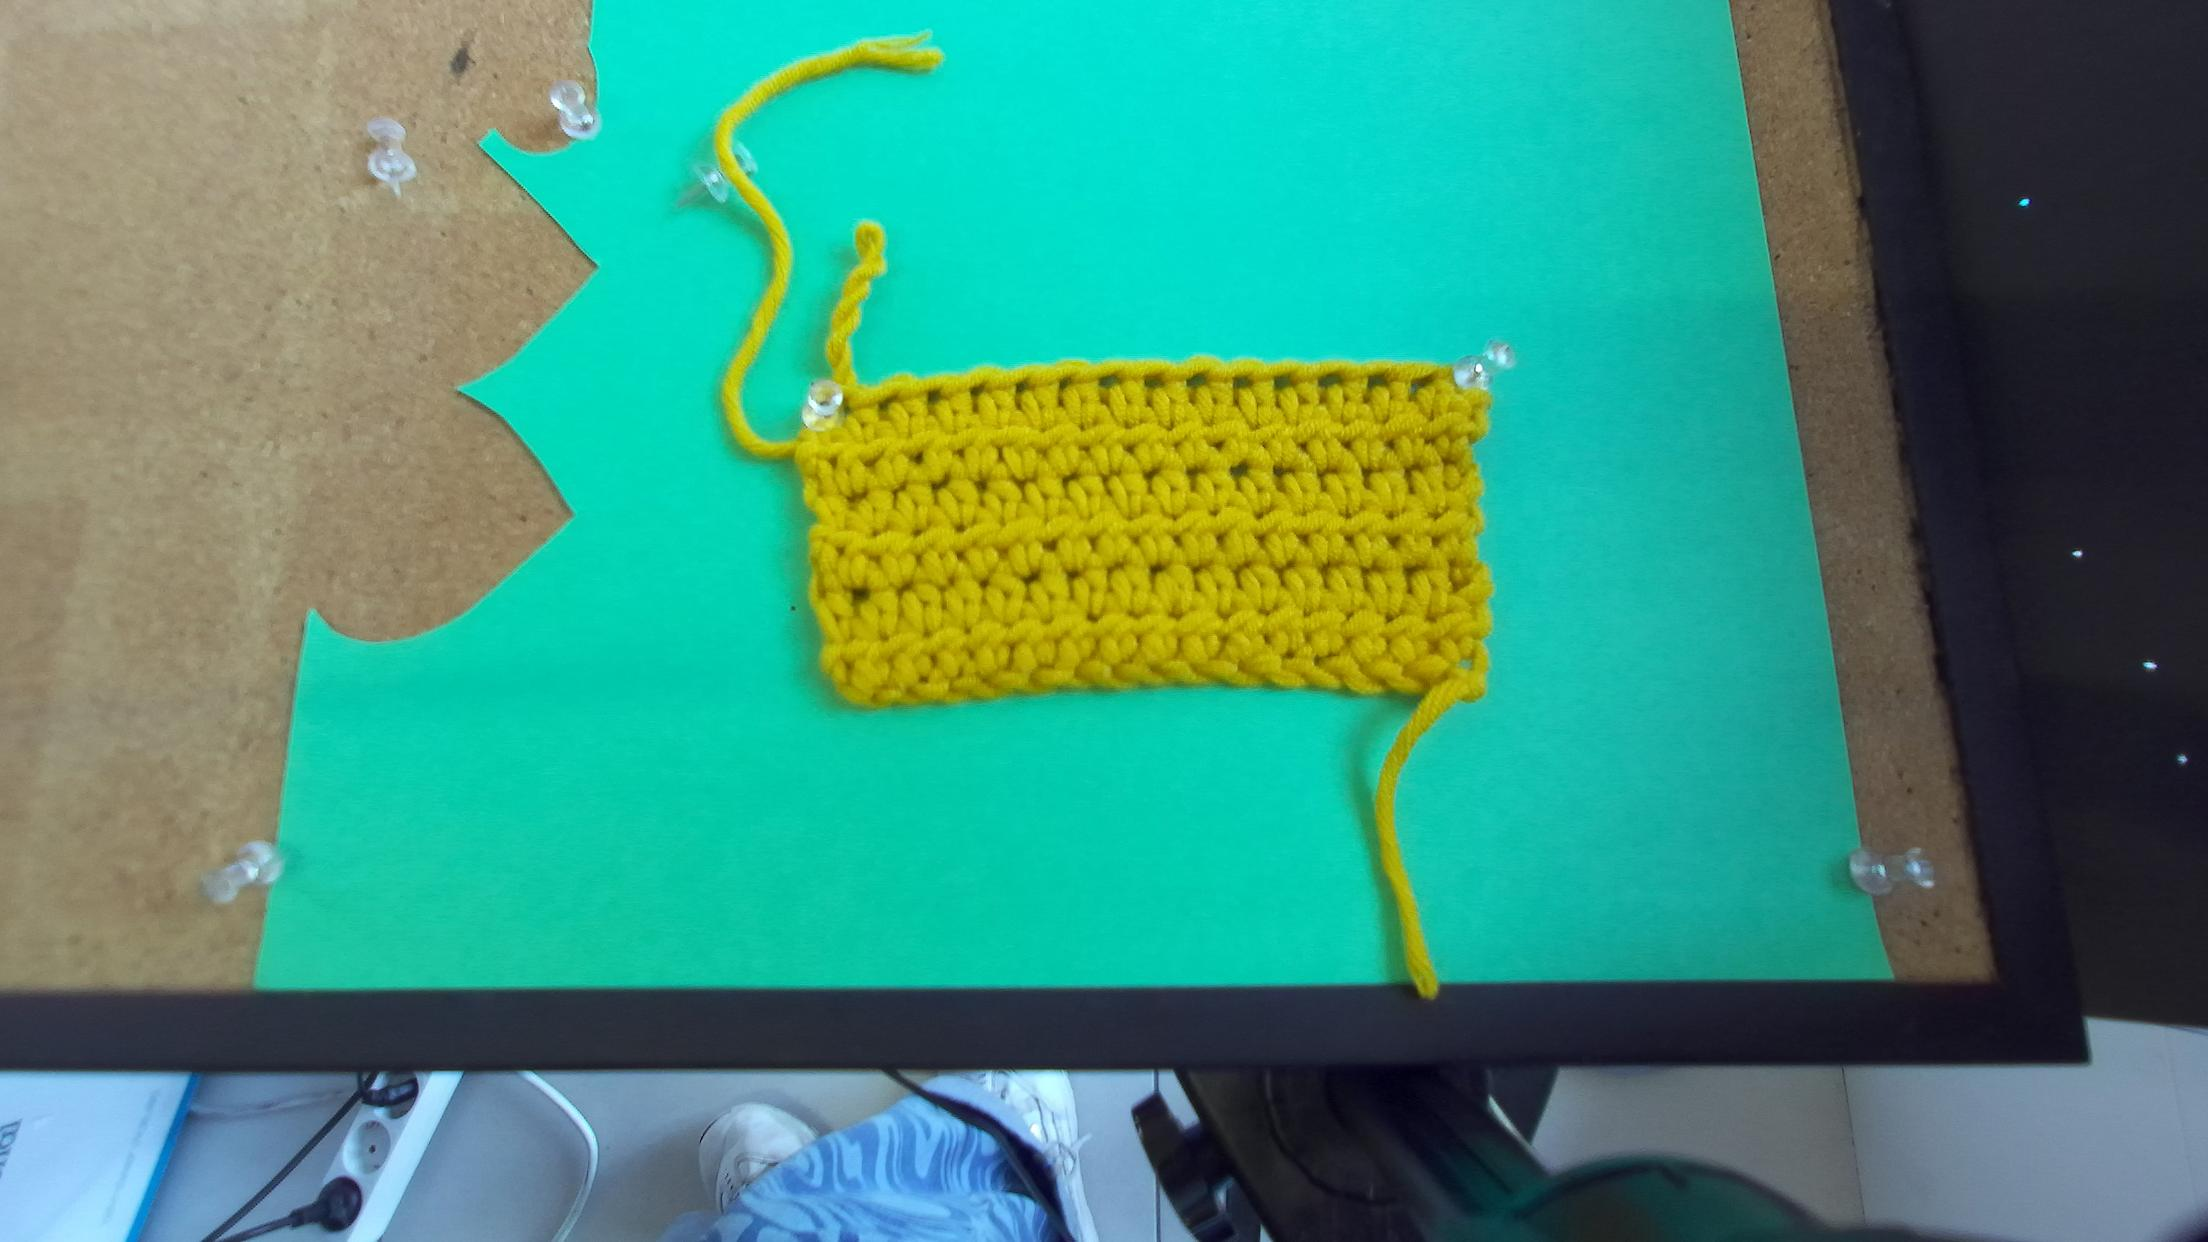hole: (878, 391, 902, 417), (1410, 375, 1432, 397), (1319, 373, 1344, 391), (1099, 373, 1122, 390), (927, 385, 945, 405), (1368, 373, 1388, 391), (1145, 375, 1166, 390), (843, 399, 855, 425), (1187, 373, 1207, 388), (971, 381, 986, 399), (1274, 375, 1292, 390), (1233, 376, 1253, 388), (1060, 376, 1075, 391), (1016, 379, 1030, 394)
swatch: (795, 359, 1495, 722)
